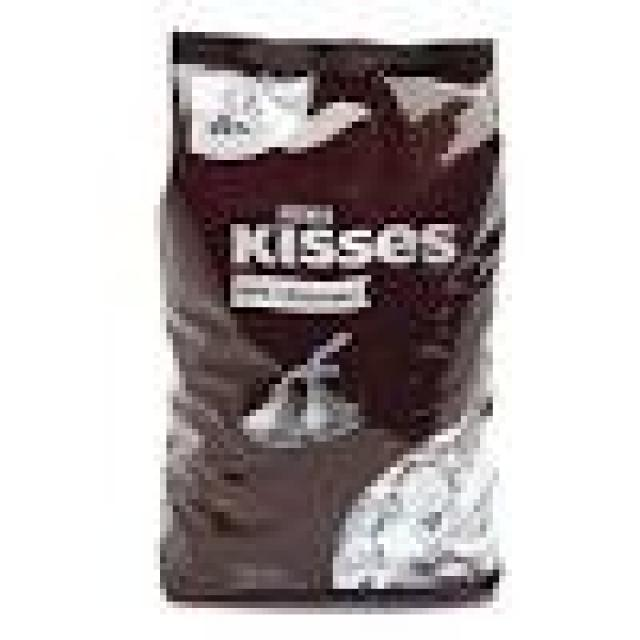kisses: (295, 360, 373, 442), (238, 372, 310, 452)
